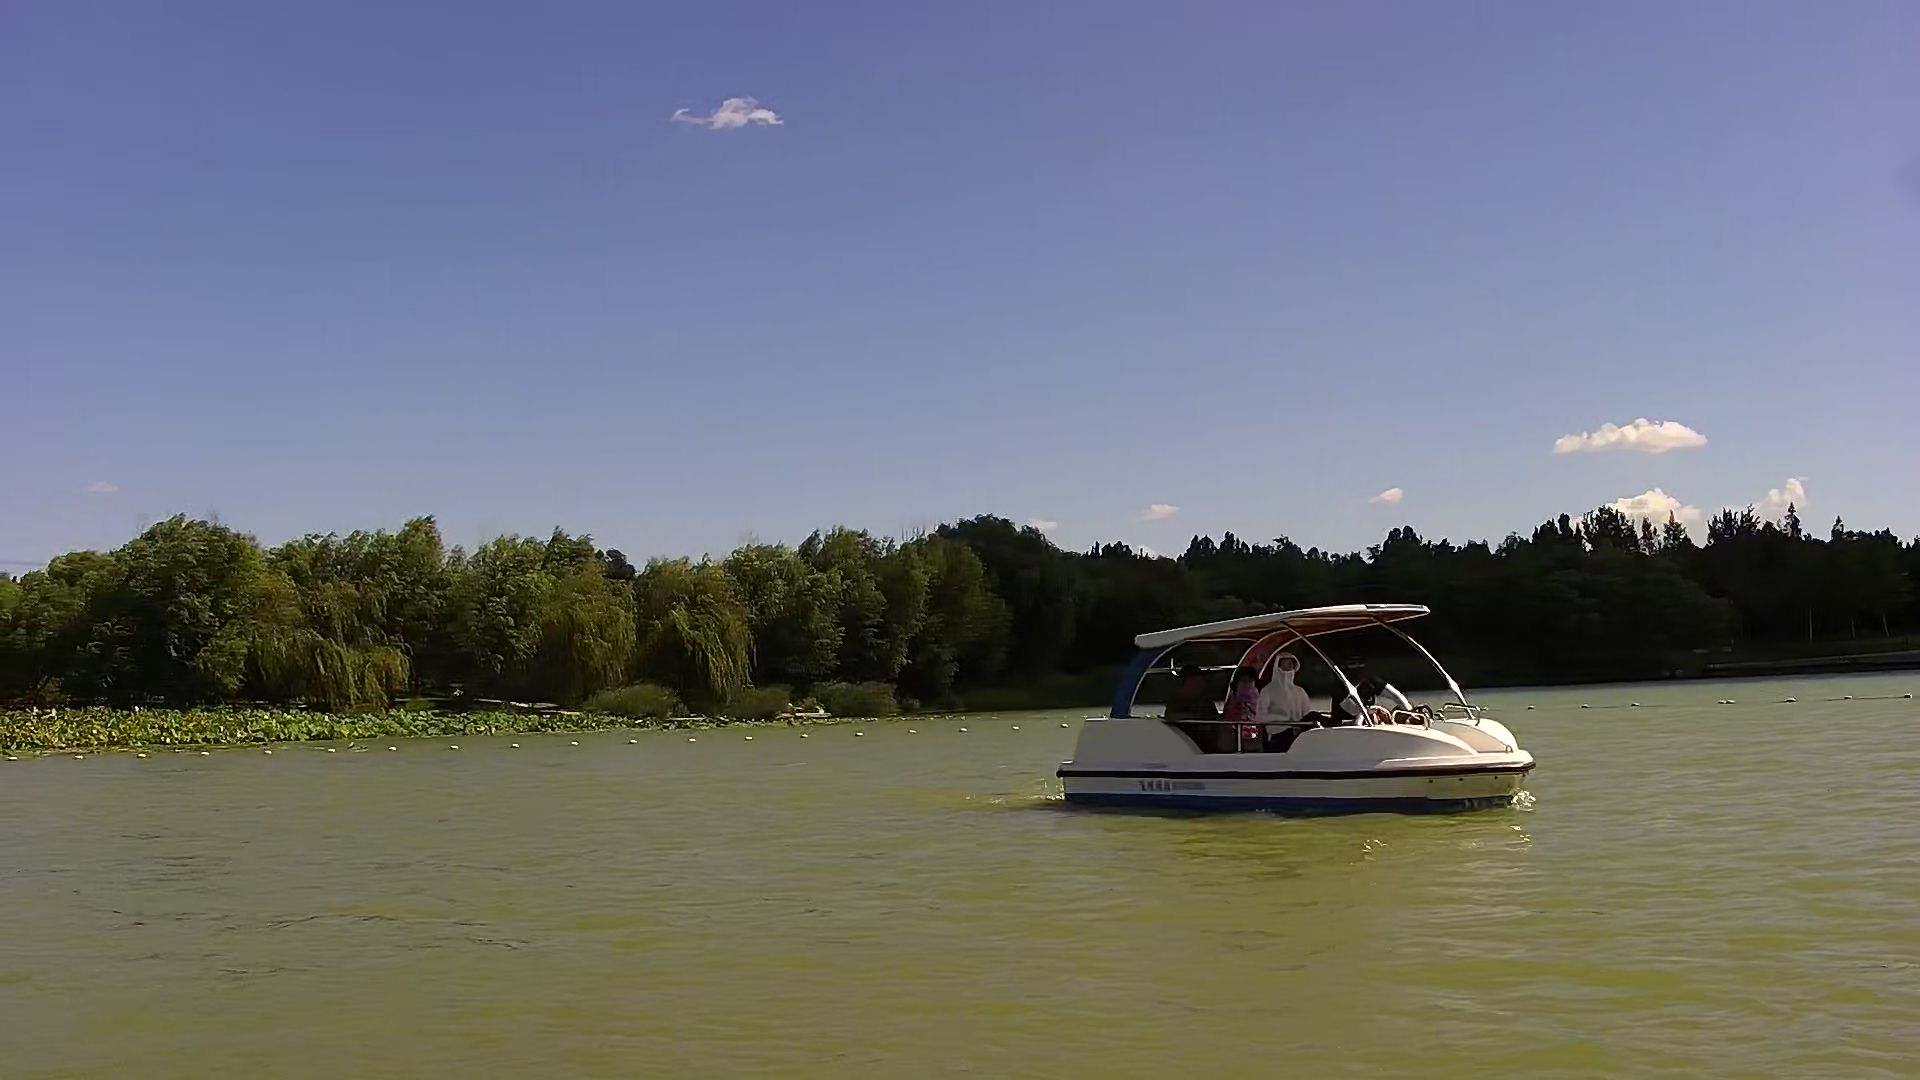boat: (1054, 611, 1540, 824)
